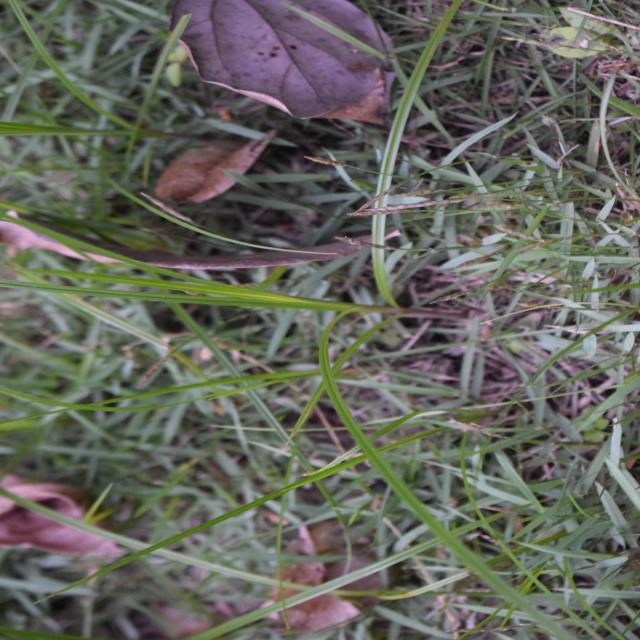sedge: (125, 56, 542, 526)
